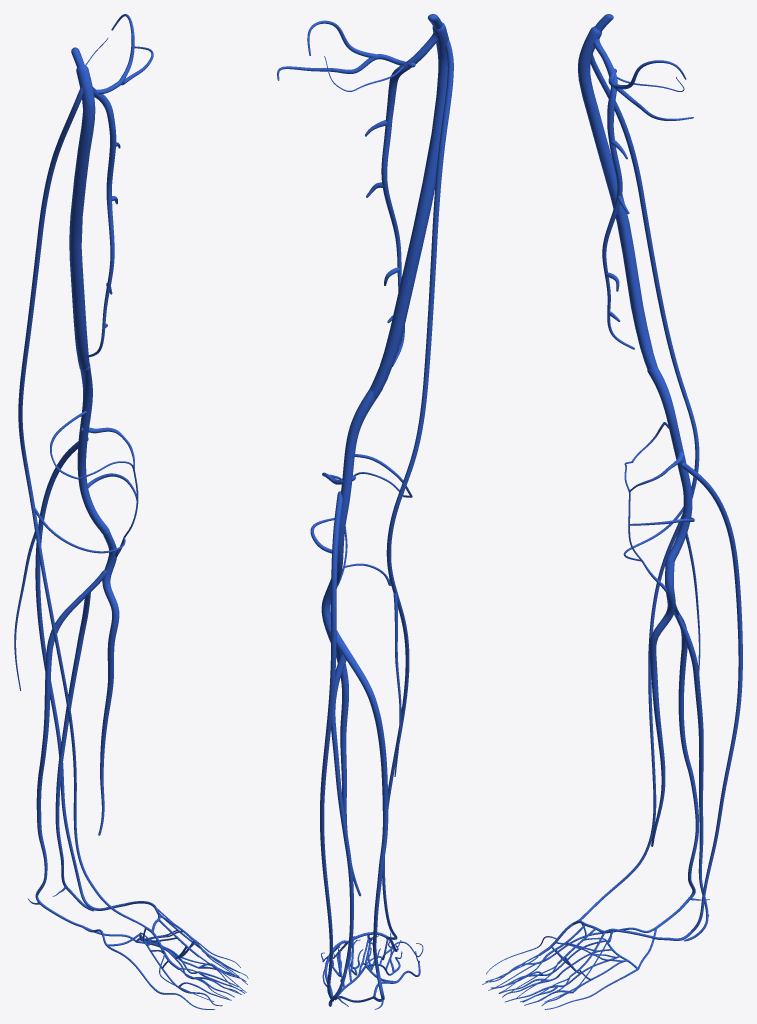
Rendered from veins.lower_limb_left.glb.
The picture shows the model from 3 angles, left to right: view 1: azimuth 30°, elevation 25°; view 2: azimuth 150°, elevation 25°; view 3: azimuth 270°, elevation 25°; orthographic projection. The views are drawn at different scales.
Visible parts, largest first — view 1: left_great_saphenous_vein, left_femoral_vein, left_anterior_tibial_vein, left_small_saphenous_vein, left_posterior_tibial_vein, left_deep_femoral_vein, left_fibular_vein, left_popliteal_vein, left_genicular_vein, left_set_of_plantar_digital_veins, left_set_of_dorsal_digital_veins, left_lateral_circumflex_femoral_vein (+1 smaller); view 2: left_great_saphenous_vein, left_femoral_vein, left_small_saphenous_vein, left_posterior_tibial_vein, left_deep_femoral_vein, left_fibular_vein, left_anterior_tibial_vein, left_popliteal_vein, left_lateral_circumflex_femoral_vein, left_genicular_vein, left_set_of_plantar_digital_veins, left_set_of_perforating_veins; view 3: left_femoral_vein, left_great_saphenous_vein, left_small_saphenous_vein, left_anterior_tibial_vein, left_deep_femoral_vein, left_popliteal_vein, left_fibular_vein, left_posterior_tibial_vein, left_set_of_plantar_digital_veins, left_set_of_dorsal_digital_veins, left_genicular_vein, left_lateral_circumflex_femoral_vein (+1 smaller).
Part boxes in pixels (x1=…): left_great_saphenous_vein: x1=14, y1=86, x2=146, y2=927; left_femoral_vein: x1=69, y1=65, x2=95, y2=373; left_anterior_tibial_vein: x1=78, y1=461, x2=138, y2=835; left_small_saphenous_vein: x1=35, y1=437, x2=125, y2=910; left_posterior_tibial_vein: x1=35, y1=570, x2=106, y2=927; left_deep_femoral_vein: x1=71, y1=47, x2=116, y2=357; left_fibular_vein: x1=28, y1=592, x2=93, y2=911; left_popliteal_vein: x1=77, y1=364, x2=109, y2=533; left_genicular_vein: x1=34, y1=411, x2=138, y2=553; left_set_of_plantar_digital_veins: x1=106, y1=941, x2=246, y2=1009; left_set_of_dorsal_digital_veins: x1=159, y1=947, x2=248, y2=1001; left_lateral_circumflex_femoral_vein: x1=97, y1=14, x2=153, y2=94; left_great_saphenous_vein: x1=382, y1=39, x2=453, y2=939; left_femoral_vein: x1=370, y1=22, x2=448, y2=398; left_small_saphenous_vein: x1=320, y1=491, x2=342, y2=1001; left_posterior_tibial_vein: x1=327, y1=628, x2=388, y2=1001; left_deep_femoral_vein: x1=381, y1=14, x2=442, y2=366; left_fibular_vein: x1=328, y1=653, x2=383, y2=1009; left_anterior_tibial_vein: x1=321, y1=472, x2=403, y2=896; left_popliteal_vein: x1=330, y1=389, x2=376, y2=585; left_lateral_circumflex_femoral_vein: x1=277, y1=20, x2=415, y2=80; left_genicular_vein: x1=310, y1=454, x2=412, y2=585; left_set_of_plantar_digital_veins: x1=322, y1=946, x2=420, y2=986; left_set_of_perforating_veins: x1=336, y1=939, x2=394, y2=985; left_femoral_vein: x1=578, y1=26, x2=657, y2=369; left_great_saphenous_vein: x1=580, y1=54, x2=700, y2=920; left_small_saphenous_vein: x1=658, y1=462, x2=742, y2=940; left_anterior_tibial_vein: x1=624, y1=461, x2=675, y2=846; left_deep_femoral_vein: x1=593, y1=14, x2=634, y2=349; left_popliteal_vein: x1=647, y1=368, x2=692, y2=563; left_fibular_vein: x1=675, y1=614, x2=709, y2=941; left_posterior_tibial_vein: x1=655, y1=604, x2=698, y2=928; left_set_of_plantar_digital_veins: x1=485, y1=931, x2=638, y2=1009; left_set_of_dorsal_digital_veins: x1=482, y1=936, x2=580, y2=1002; left_genicular_vein: x1=623, y1=422, x2=694, y2=561; left_lateral_circumflex_femoral_vein: x1=608, y1=60, x2=693, y2=120.
Size of the model in its own units: 0.1566 by 0.8957 by 0.2272.
